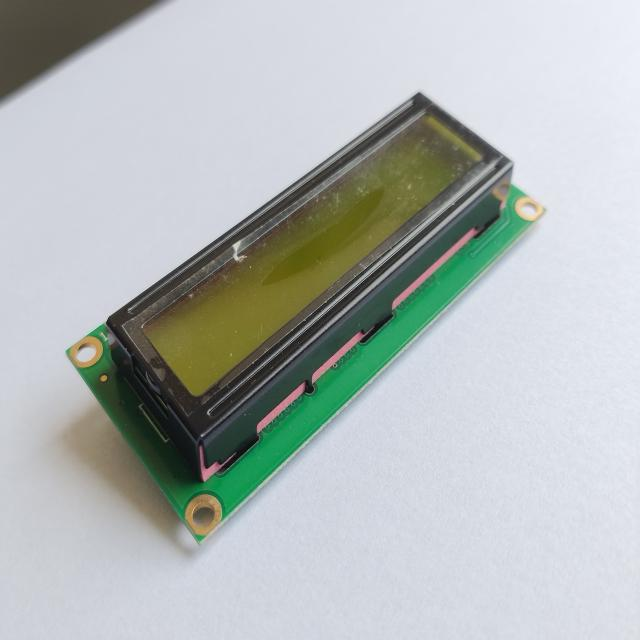lcd: (63, 84, 565, 552)
